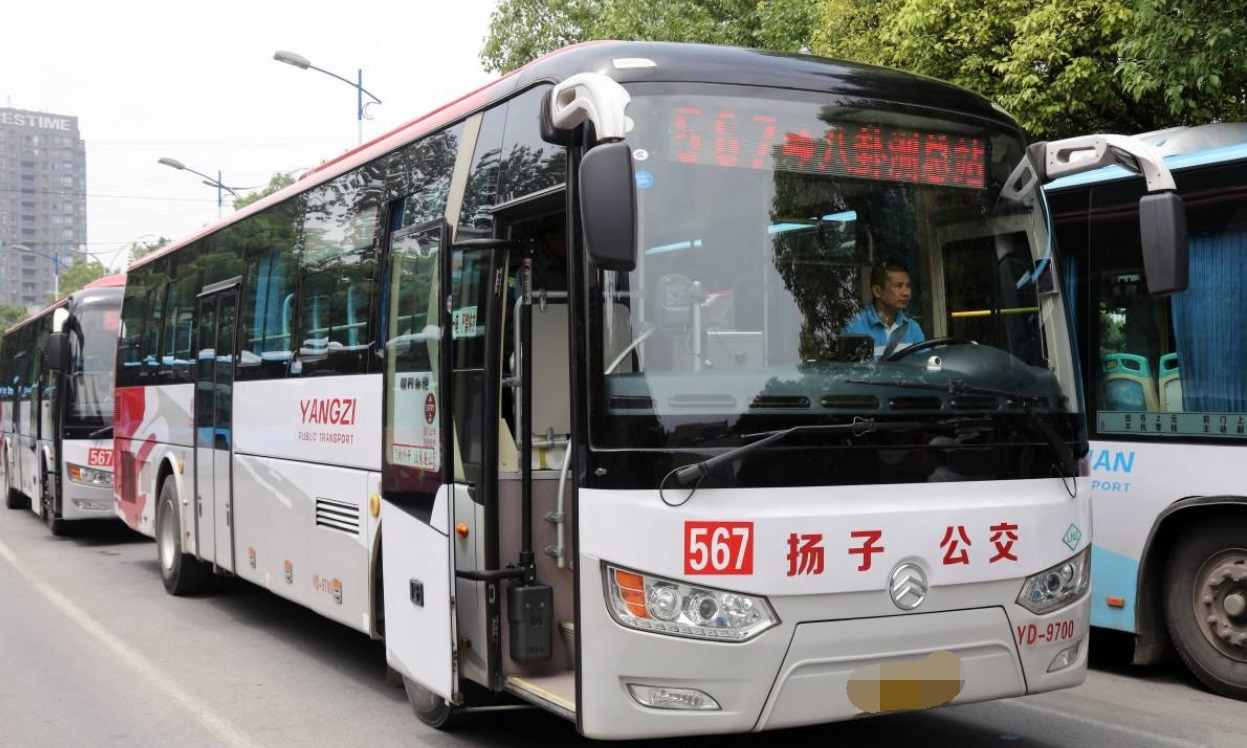bus: (125, 53, 1103, 748)
